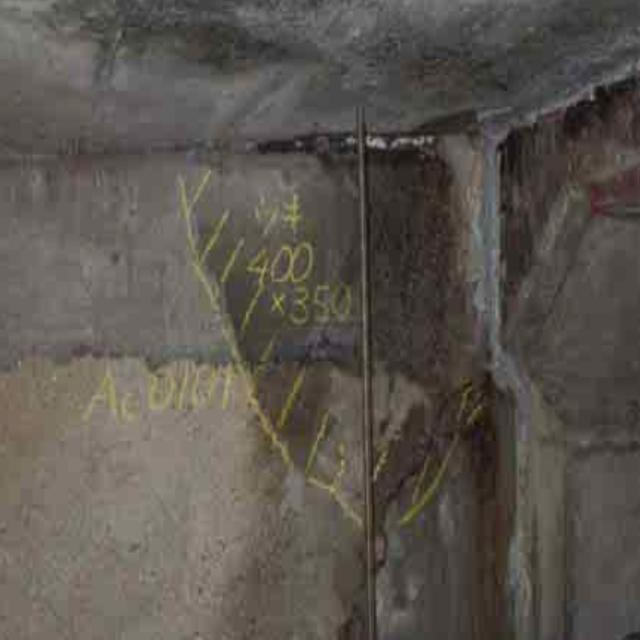leakage: (253, 130, 528, 640)
